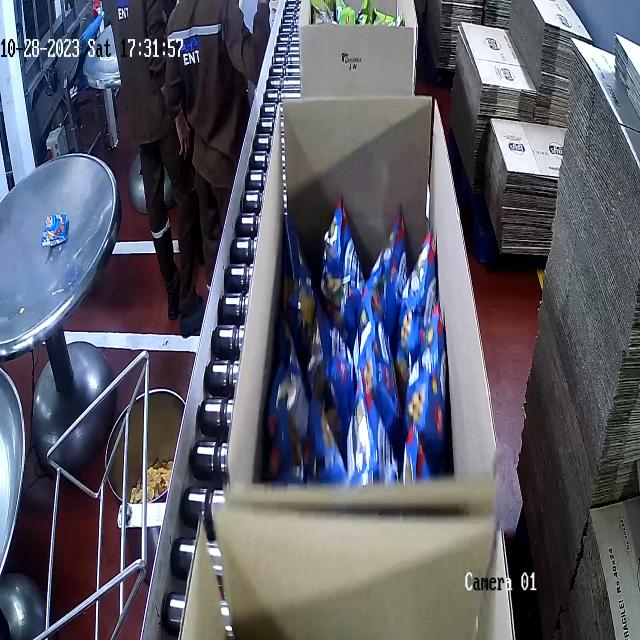PAPRIKA: (271, 192, 448, 481)
